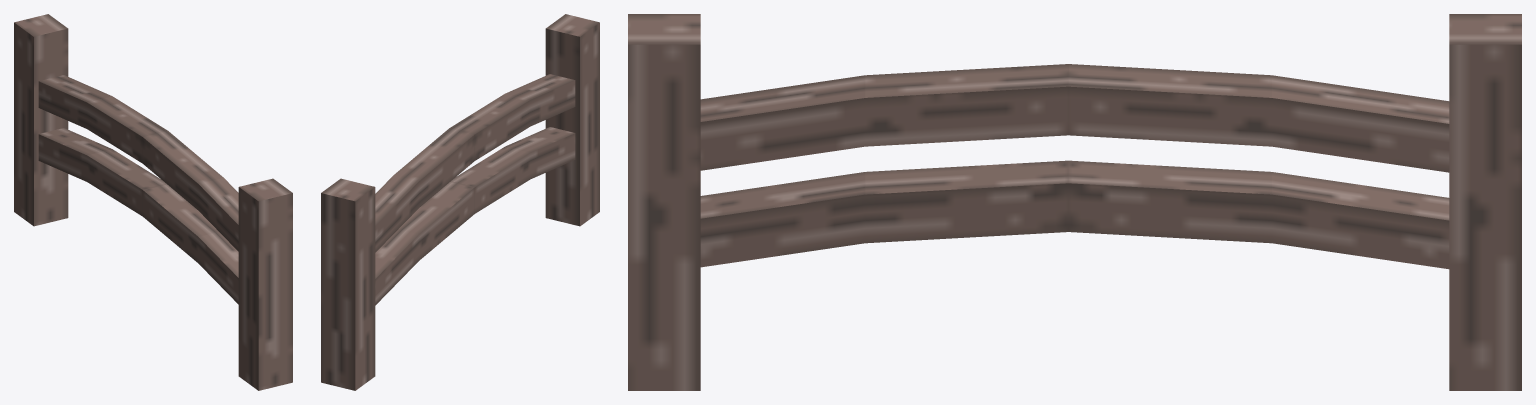
File: Platform_Railing.fbx
3 views of the same model, side by side, from view 1: azimuth 30°, elevation 25°; view 2: azimuth 150°, elevation 25°; view 3: azimuth 270°, elevation 25° (orthographic). The views are drawn at different scales.
Parts seen in each view (by area): view 1: PlatformRailing; view 2: PlatformRailing; view 3: PlatformRailing.
Part boxes in pixels (x1,y1,x2,y2): PlatformRailing: (14, 14, 292, 390); PlatformRailing: (321, 14, 599, 390); PlatformRailing: (628, 14, 1521, 390).
Bounding box in the file's own units: 15.1 × 79.61 × 186.
